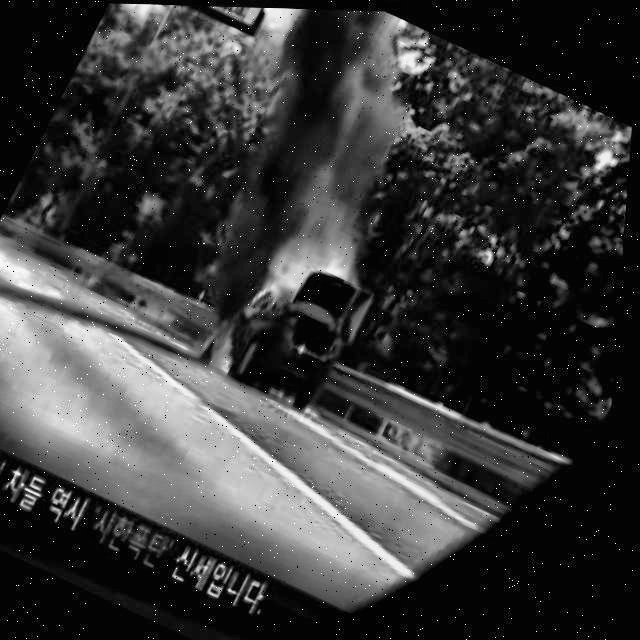Fire: (204, 313, 260, 374), (257, 243, 311, 303)
Smoke: (194, 5, 459, 222)
